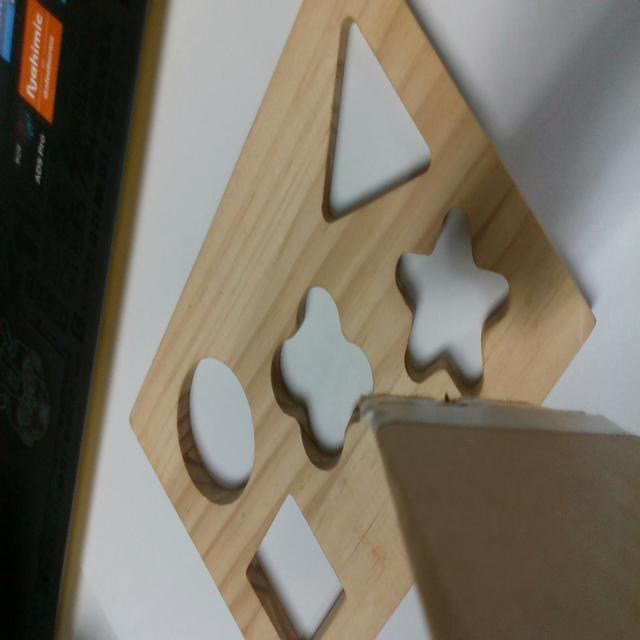circle: (178, 356, 254, 507)
flower: (271, 285, 374, 472)
square: (245, 491, 348, 637)
star: (394, 208, 511, 403)
triangle: (321, 16, 430, 224)
